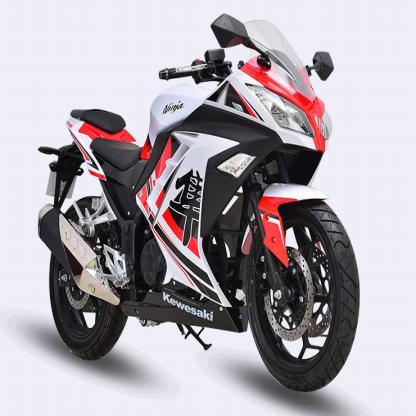Motorcycle: (29, 9, 369, 396)
